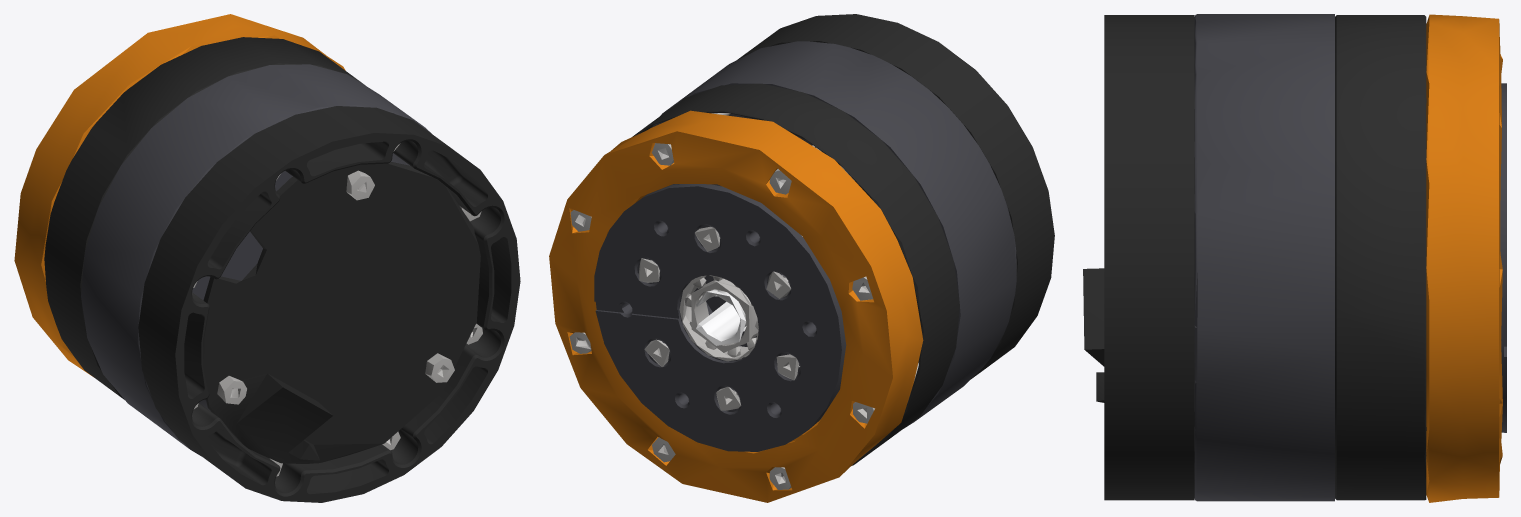
File: motor5.dae
The picture shows the model from 3 angles, left to right: view 1: azimuth 30°, elevation 25°; view 2: azimuth 150°, elevation 25°; view 3: azimuth 270°, elevation 25°; orthographic projection. The views are drawn at different scales.
Parts seen in each view (by area): view 1: motor5; view 2: motor5; view 3: motor5.
Part boxes in pixels (bbox=[...]): motor5: bbox=[14, 14, 520, 502]; motor5: bbox=[549, 14, 1054, 502]; motor5: bbox=[1083, 14, 1506, 502].
Bounding box in the file's own units: 0.0802 × 0.0695 × 0.0799.
